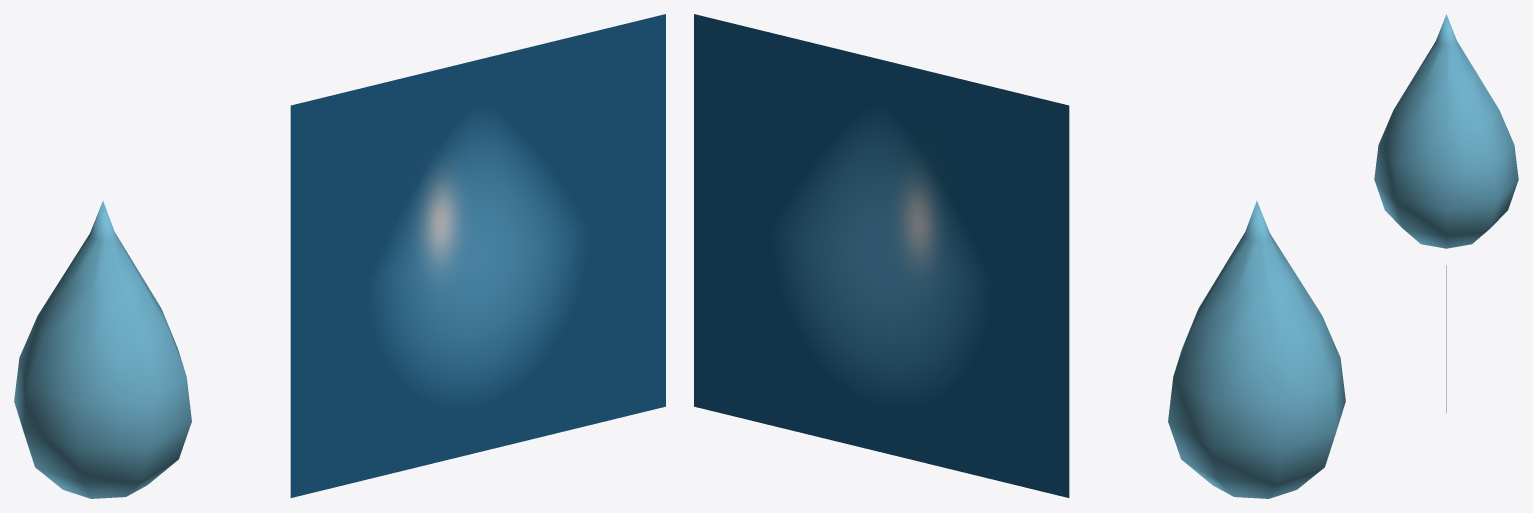
Rendered from VLAB_drop_sprite.fbx.
3 views of the same model, side by side, from view 1: azimuth 30°, elevation 25°; view 2: azimuth 150°, elevation 25°; view 3: azimuth 270°, elevation 25° (orthographic). The views are drawn at different scales.
Parts seen in each view (by area): view 1: VLAB_drop_sprite_Atlas_VIS, VLAB_drop_sprite_DropMesh_VIS; view 2: VLAB_drop_sprite_Atlas_VIS, VLAB_drop_sprite_DropMesh_VIS; view 3: VLAB_drop_sprite_DropMesh_VIS.
Boxes of the visible parts, x1,y1,x2,y2 form: VLAB_drop_sprite_Atlas_VIS: (290, 14, 665, 497); VLAB_drop_sprite_DropMesh_VIS: (14, 201, 191, 498); VLAB_drop_sprite_Atlas_VIS: (694, 14, 1069, 497); VLAB_drop_sprite_DropMesh_VIS: (1168, 201, 1345, 498); VLAB_drop_sprite_DropMesh_VIS: (1374, 14, 1518, 248).
Size of the model in its own units: 0.0137 by 0.008 by 0.0034.
